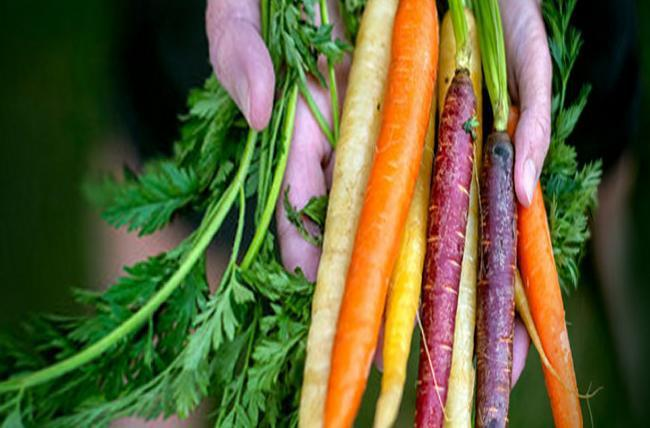carrot: (362, 5, 409, 428), (524, 206, 596, 428)
